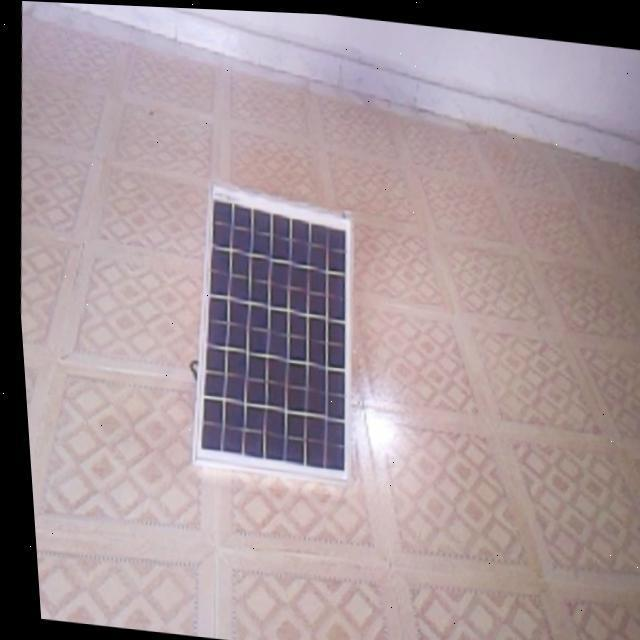Normal Solar Panel: (172, 180, 363, 480)
